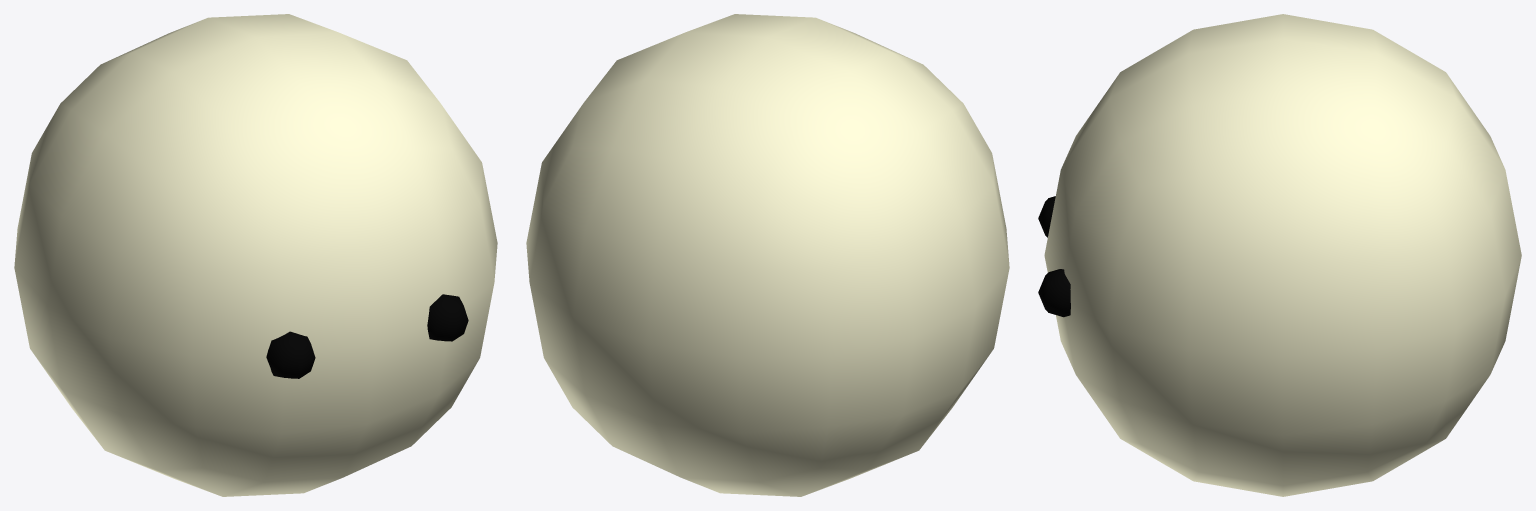
Rendered from head.fbx.
3 renders of one model, left to right at view 1: azimuth 30°, elevation 25°; view 2: azimuth 150°, elevation 25°; view 3: azimuth 270°, elevation 25°, orthographic.
Visible parts, largest first — view 1: Head; view 2: Head; view 3: Head.
Part boxes in pixels (left/top/right/bottom): Head: left=14, top=14, right=497, bottom=496; Head: left=526, top=14, right=1009, bottom=496; Head: left=1038, top=14, right=1521, bottom=496.
Size of the model in its own units: 78.67 by 78.67 by 79.71.
